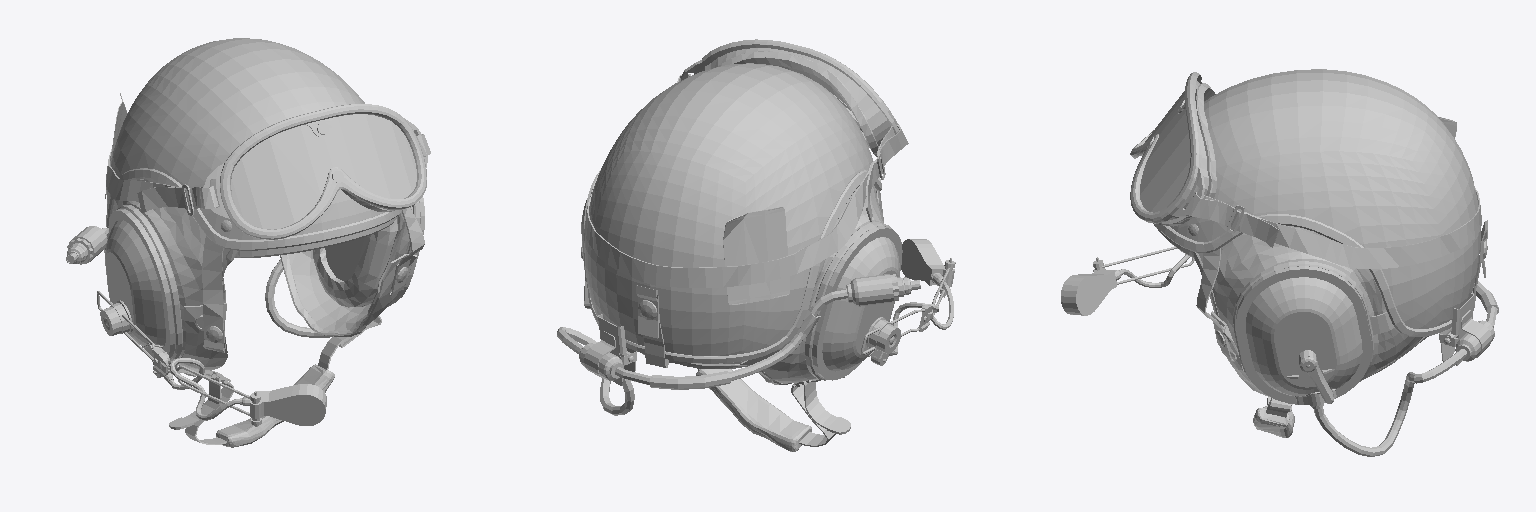
Rendered from Combat_Helmet.obj.
3 renders of one model, left to right at view 1: azimuth 30°, elevation 25°; view 2: azimuth 150°, elevation 25°; view 3: azimuth 270°, elevation 25°, orthographic.
Parts seen in each view (by area): view 1: LO_Helmet_Assembled; view 2: LO_Helmet_Assembled; view 3: LO_Helmet_Assembled.
Boxes of the visible parts, x1,y1,x2,y2 form: LO_Helmet_Assembled: [66, 38, 430, 447]; LO_Helmet_Assembled: [557, 39, 955, 451]; LO_Helmet_Assembled: [1061, 69, 1498, 456].
Bounding box in the file's own units: 2.2 × 2.26 × 2.44.